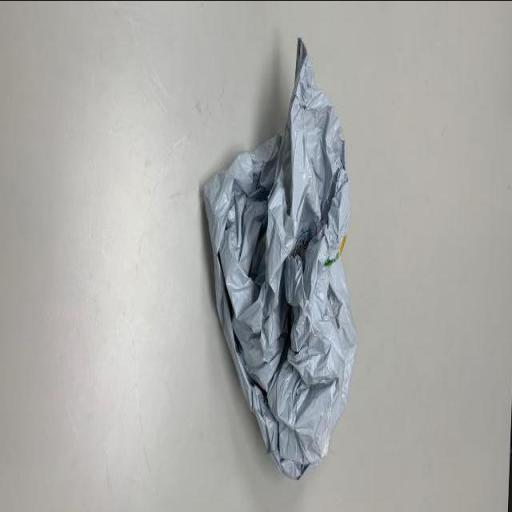plastic-bag: (199, 34, 354, 485)
